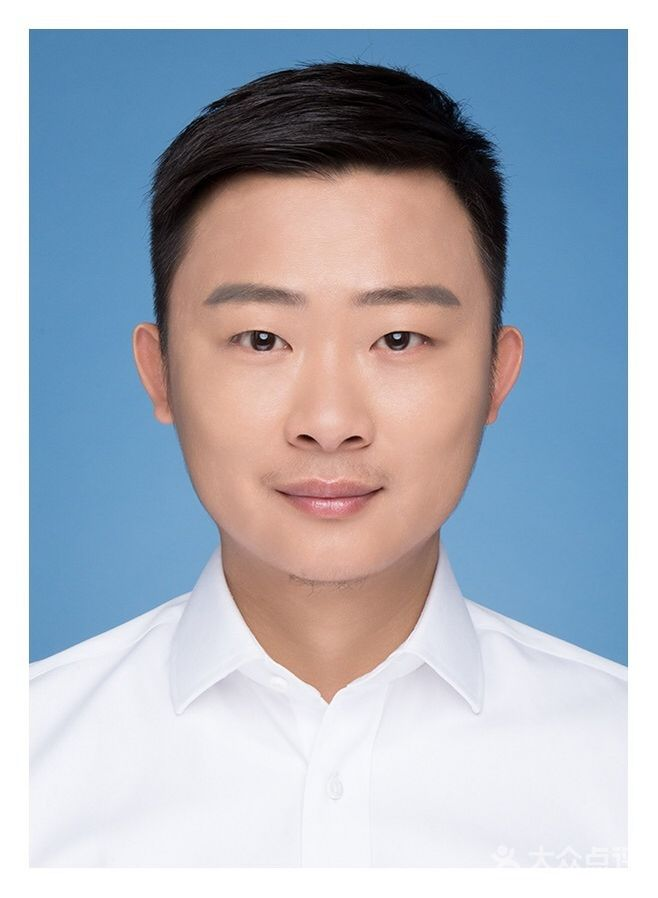unmask: (177, 202, 479, 595)
